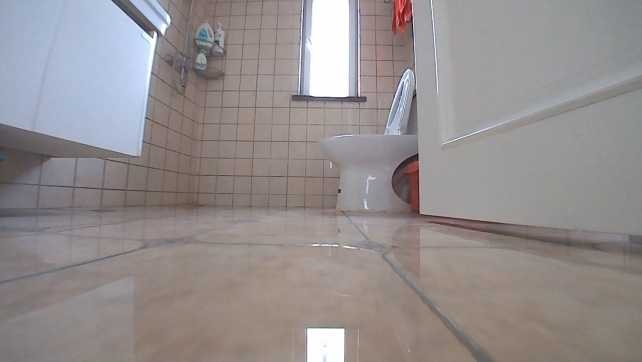door_anno: (404, 0, 642, 236)
toilet: (320, 68, 417, 210)
